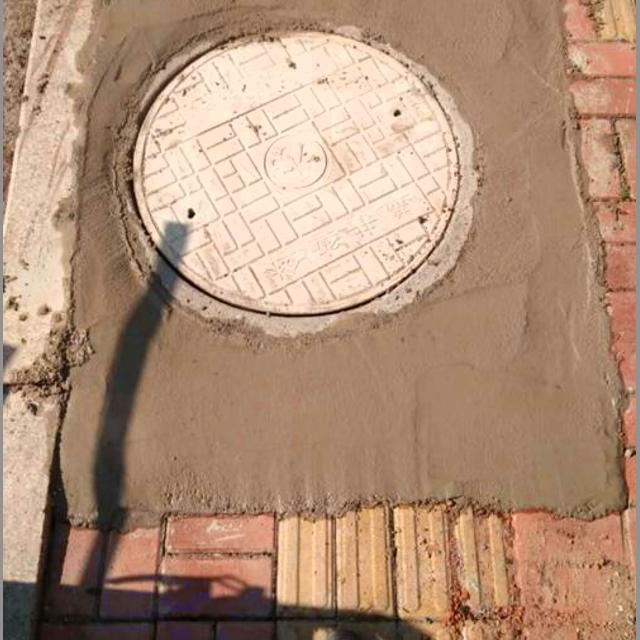good: (77, 0, 555, 487)
